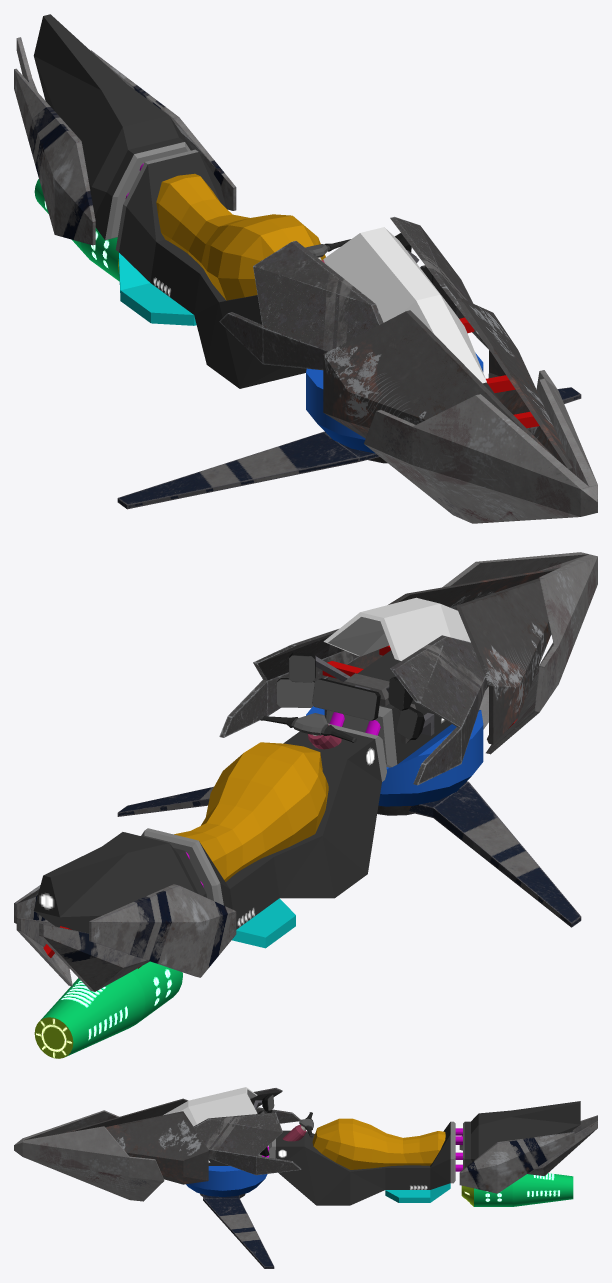
The model's file is BIKE.fbx.
3 renders of one model, top to bottom at view 1: azimuth 30°, elevation 25°; view 2: azimuth 150°, elevation 25°; view 3: azimuth 270°, elevation 25°, orthographic. The views are drawn at different scales.
Visible parts, largest first — view 1: mainBody, shield_1, shield_2, shield_3, shield_4, windShield, frontSteer; view 2: mainBody, shield_2, shield_3, shield_4, shield_1, frontSteer, dashBoard, windShield, shield_5, steer; view 3: mainBody, shield_1, shield_2, shield_3, shield_4, frontSteer, windShield, shield_5, dashBoard.
Boxes of the visible parts, bbox=[...] form: mainBody: bbox=[33, 14, 539, 453]; shield_1: bbox=[364, 370, 597, 523]; shield_2: bbox=[323, 298, 572, 472]; shield_3: bbox=[219, 216, 490, 370]; shield_4: bbox=[14, 50, 236, 245]; windShield: bbox=[323, 227, 486, 383]; frontSteer: bbox=[117, 387, 581, 509]; mainBody: bbox=[33, 645, 516, 1058]; shield_2: bbox=[325, 567, 560, 744]; shield_3: bbox=[219, 629, 487, 785]; shield_4: bbox=[14, 884, 236, 977]; shield_1: bbox=[442, 552, 597, 754]; frontSteer: bbox=[117, 781, 581, 927]; dashBoard: bbox=[276, 652, 434, 743]; windShield: bbox=[323, 597, 470, 660]; shield_5: bbox=[16, 918, 149, 991]; steer: bbox=[260, 713, 356, 742]; mainBody: bbox=[186, 1101, 580, 1206]; shield_1: bbox=[14, 1110, 164, 1201]; shield_2: bbox=[62, 1098, 208, 1184]; shield_3: bbox=[193, 1088, 301, 1175]; shield_4: bbox=[459, 1132, 574, 1193]; frontSteer: bbox=[200, 1193, 274, 1268]; windShield: bbox=[163, 1087, 257, 1126]; shield_5: bbox=[527, 1115, 597, 1176]; dashBoard: bbox=[253, 1094, 274, 1156].
Bounding box in the file's own units: 2.79 × 1.39 × 6.04.
